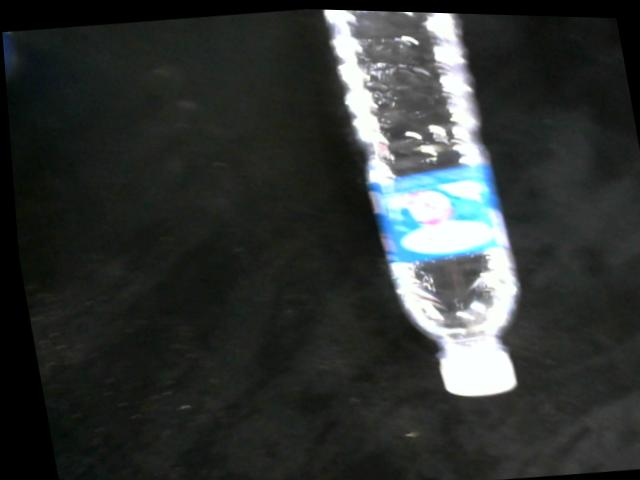bottle: (321, 7, 523, 395)
